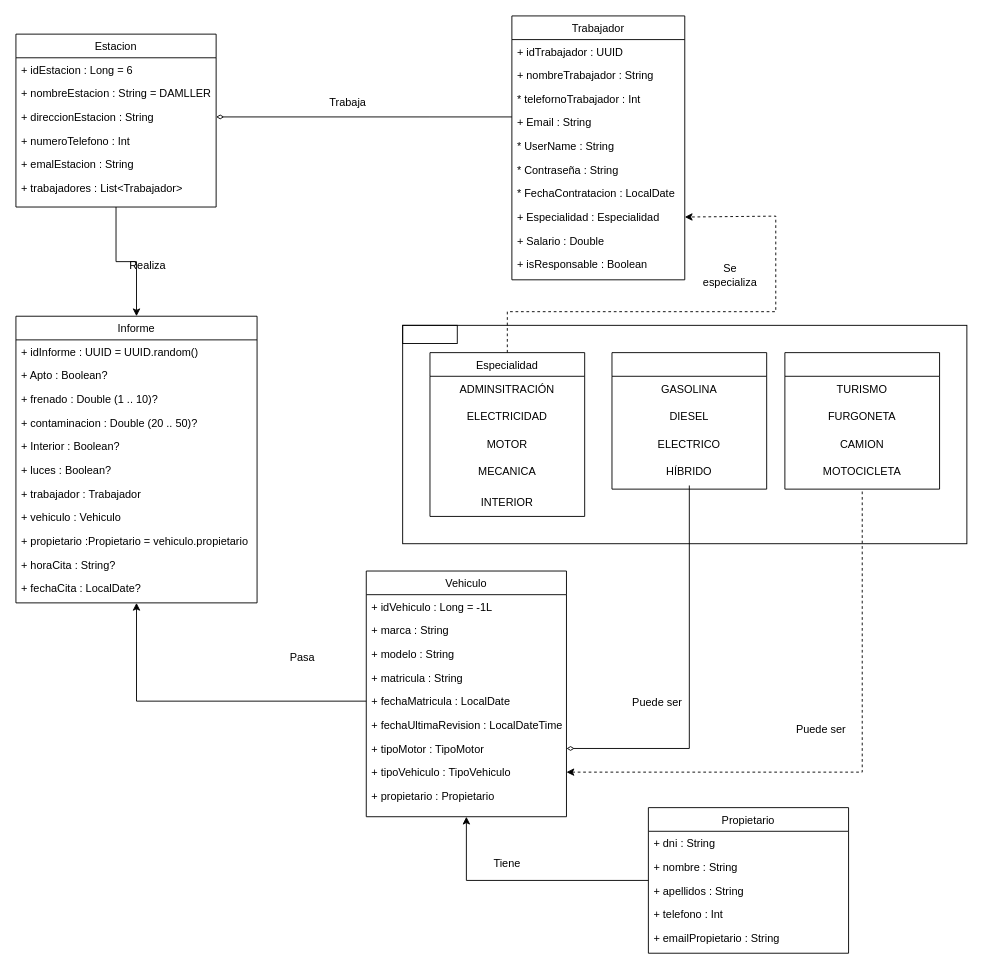
The diagram is 983 pixels wide and 969 high, and some of its shapes have lost their labels. The box of each missing label's shape, as (x1, y1, x2, y2) in pixels:
enums: (402, 324, 457, 344)
TipoMotor: (611, 352, 767, 489)
TipoVehiculo: (784, 352, 940, 489)
